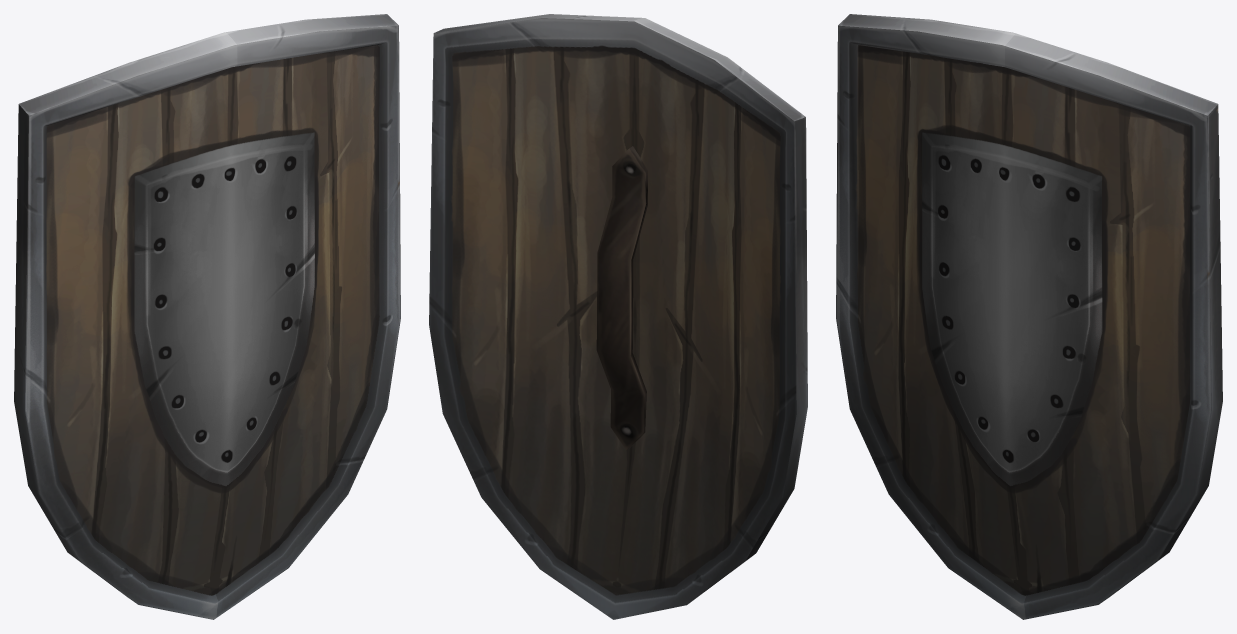
The model's file is Shield11.fbx.
3 views of the same model, side by side, from view 1: azimuth 30°, elevation 25°; view 2: azimuth 150°, elevation 25°; view 3: azimuth 330°, elevation 25° (orthographic). The views are drawn at different scales.
Visible parts, largest first — view 1: Shield11; view 2: Shield11; view 3: Shield11.
Part boxes in pixels (box(x1,y1,x2,y2)): Shield11: box(14, 14, 400, 619); Shield11: box(429, 14, 807, 619); Shield11: box(836, 14, 1222, 619).
Size of the model in its own units: 0.8809 by 1.33 by 0.1354.
